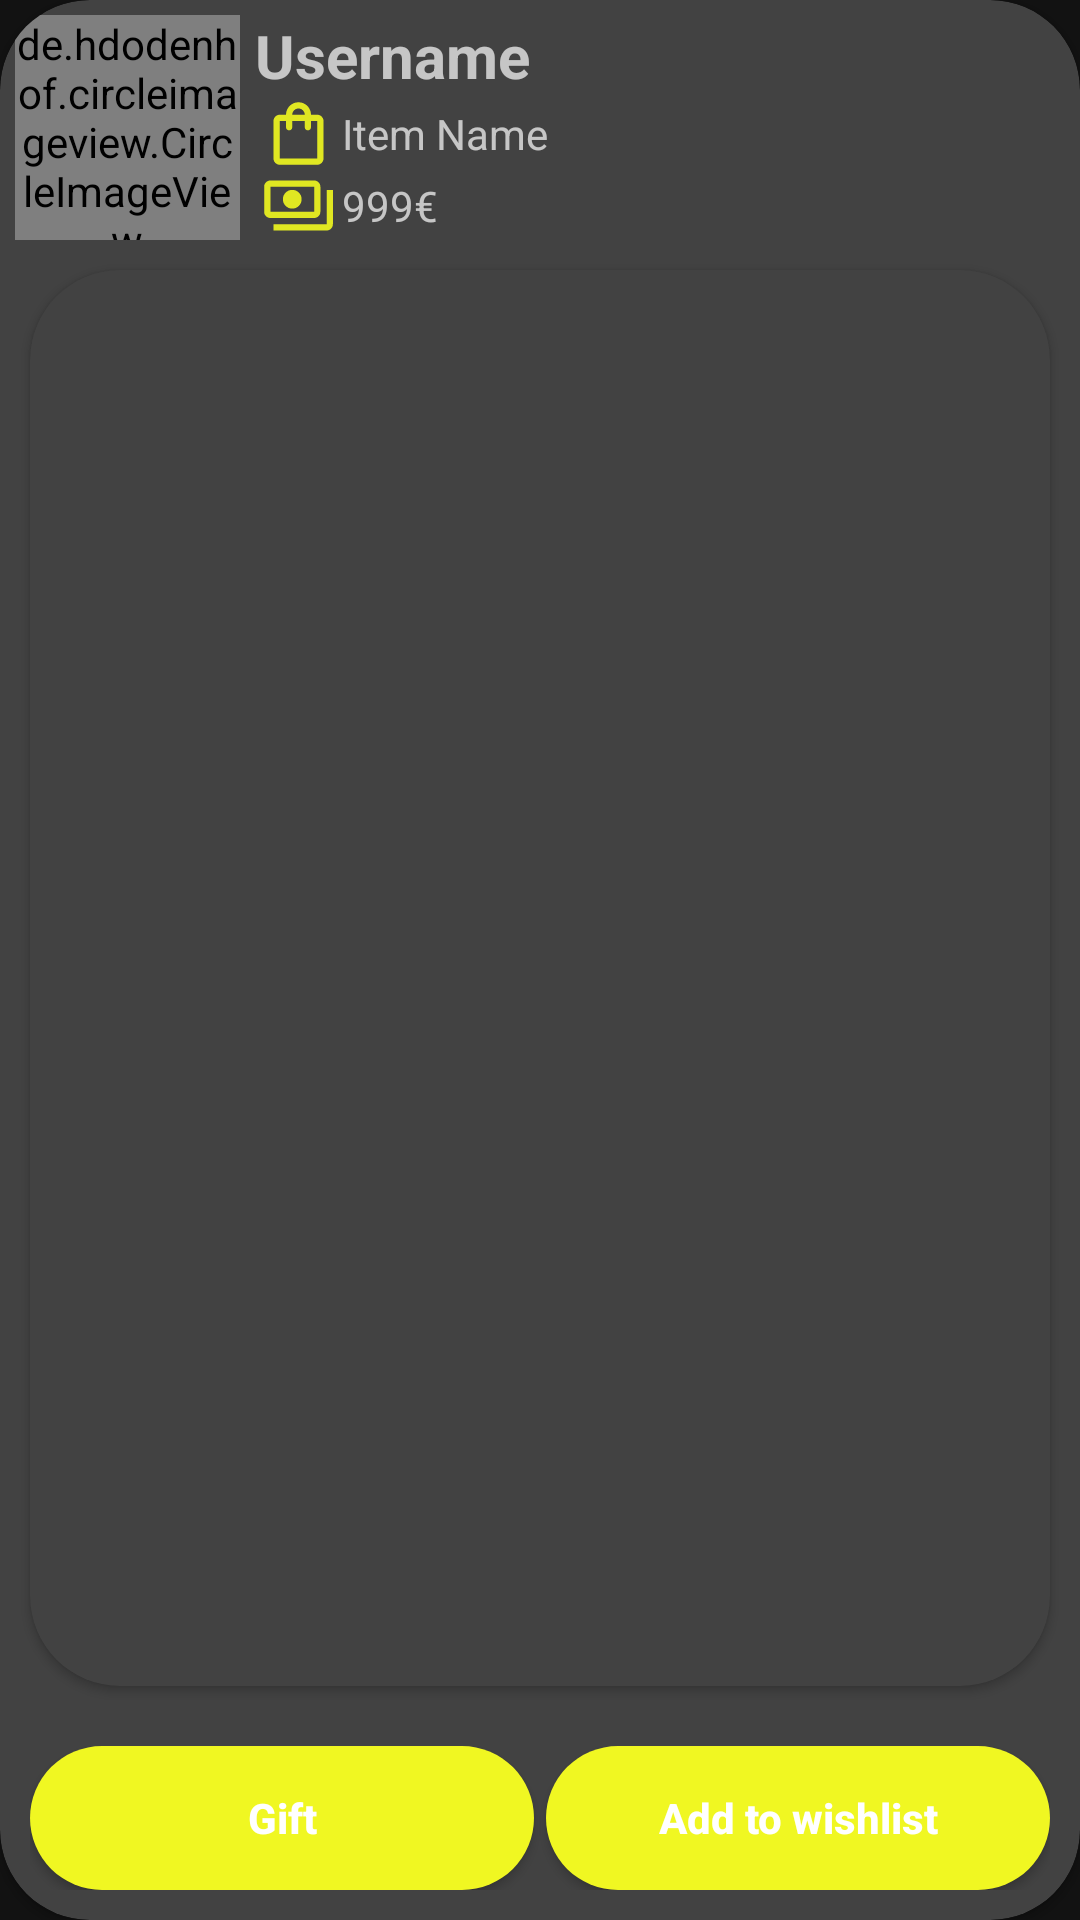

Icons on this 1080*1920 Android screen, each with its box as (x1=x1, y1=y1, x2=x2, y2=y2):
Money icon decription: (x1=264, y1=180, x2=333, y2=231)
Shopping Bag icon: (x1=273, y1=102, x2=324, y2=165)
